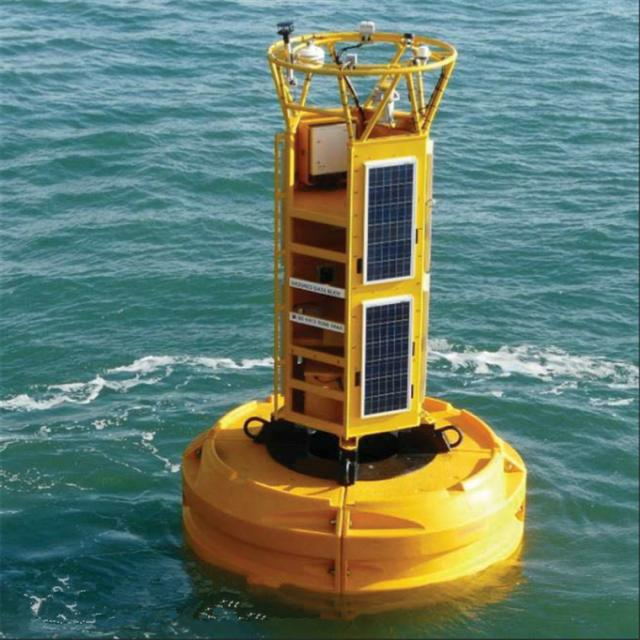buoy: (170, 12, 534, 611)
